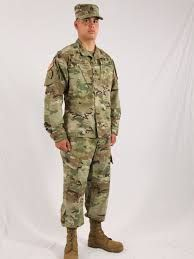uniform: (49, 46, 113, 229)
